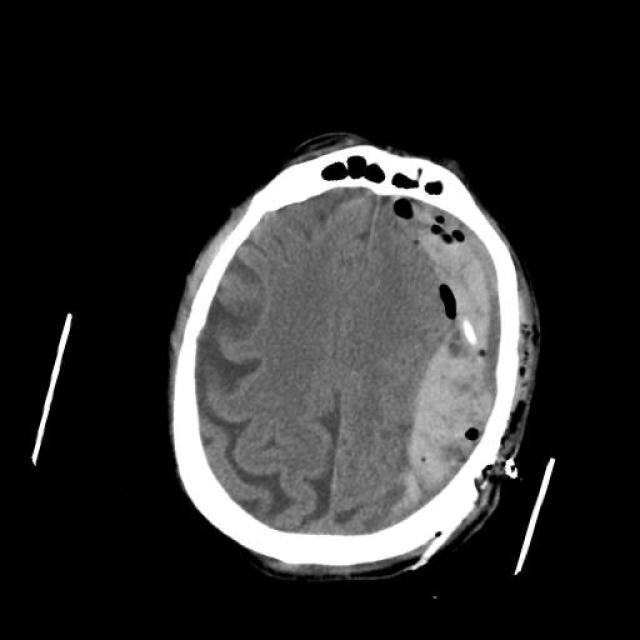Subdural: (310, 190, 594, 544)
